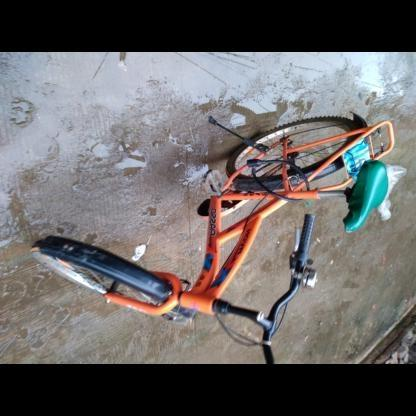Bicycle: (20, 93, 414, 370)
